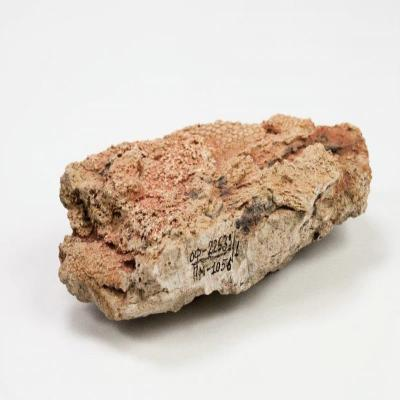natural_science_collection: (57, 114, 374, 323)
